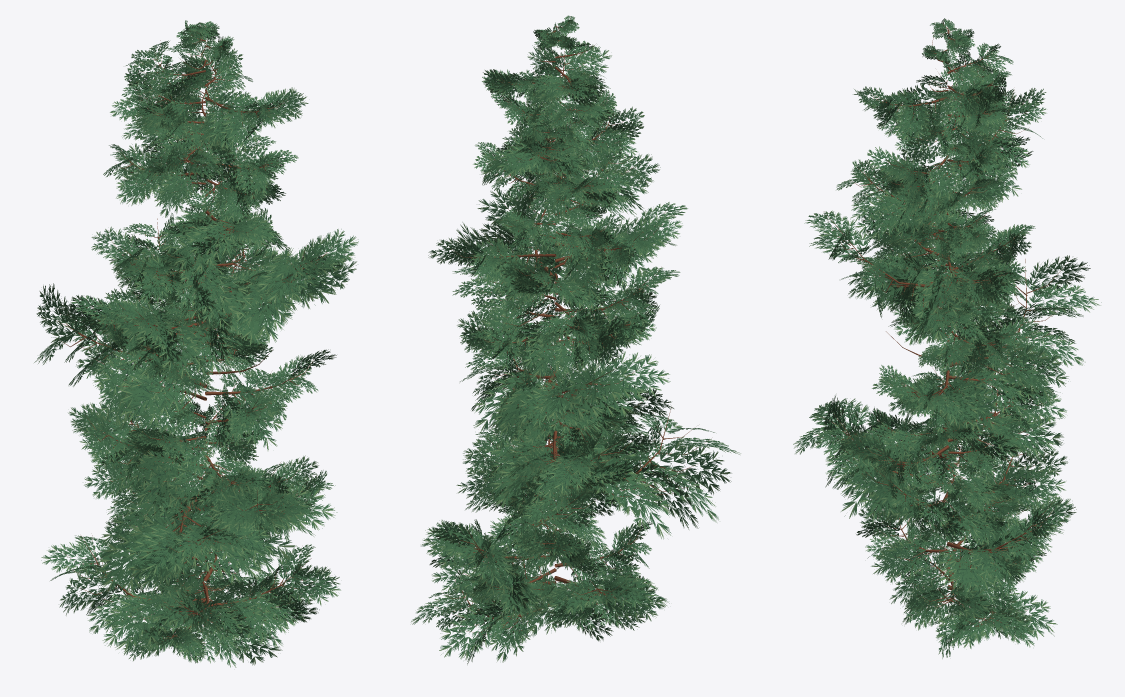
Rendered from forest-pine-lod1.meshopt.glb.
3 renders of one model, left to right at view 1: azimuth 30°, elevation 25°; view 2: azimuth 150°, elevation 25°; view 3: azimuth 270°, elevation 25°, orthographic. The views are drawn at different scales.
Visible parts, largest first — view 1: redwood-crown; view 2: redwood-crown; view 3: redwood-crown.
Boxes of the visible parts, bbox=[...] form: redwood-crown: bbox=[34, 20, 358, 667]; redwood-crown: bbox=[411, 15, 740, 664]; redwood-crown: bbox=[793, 18, 1101, 658].
Size of the model in its own units: 16.74 by 38.23 by 18.42.
Materials: 4 (3 with a texture image).
